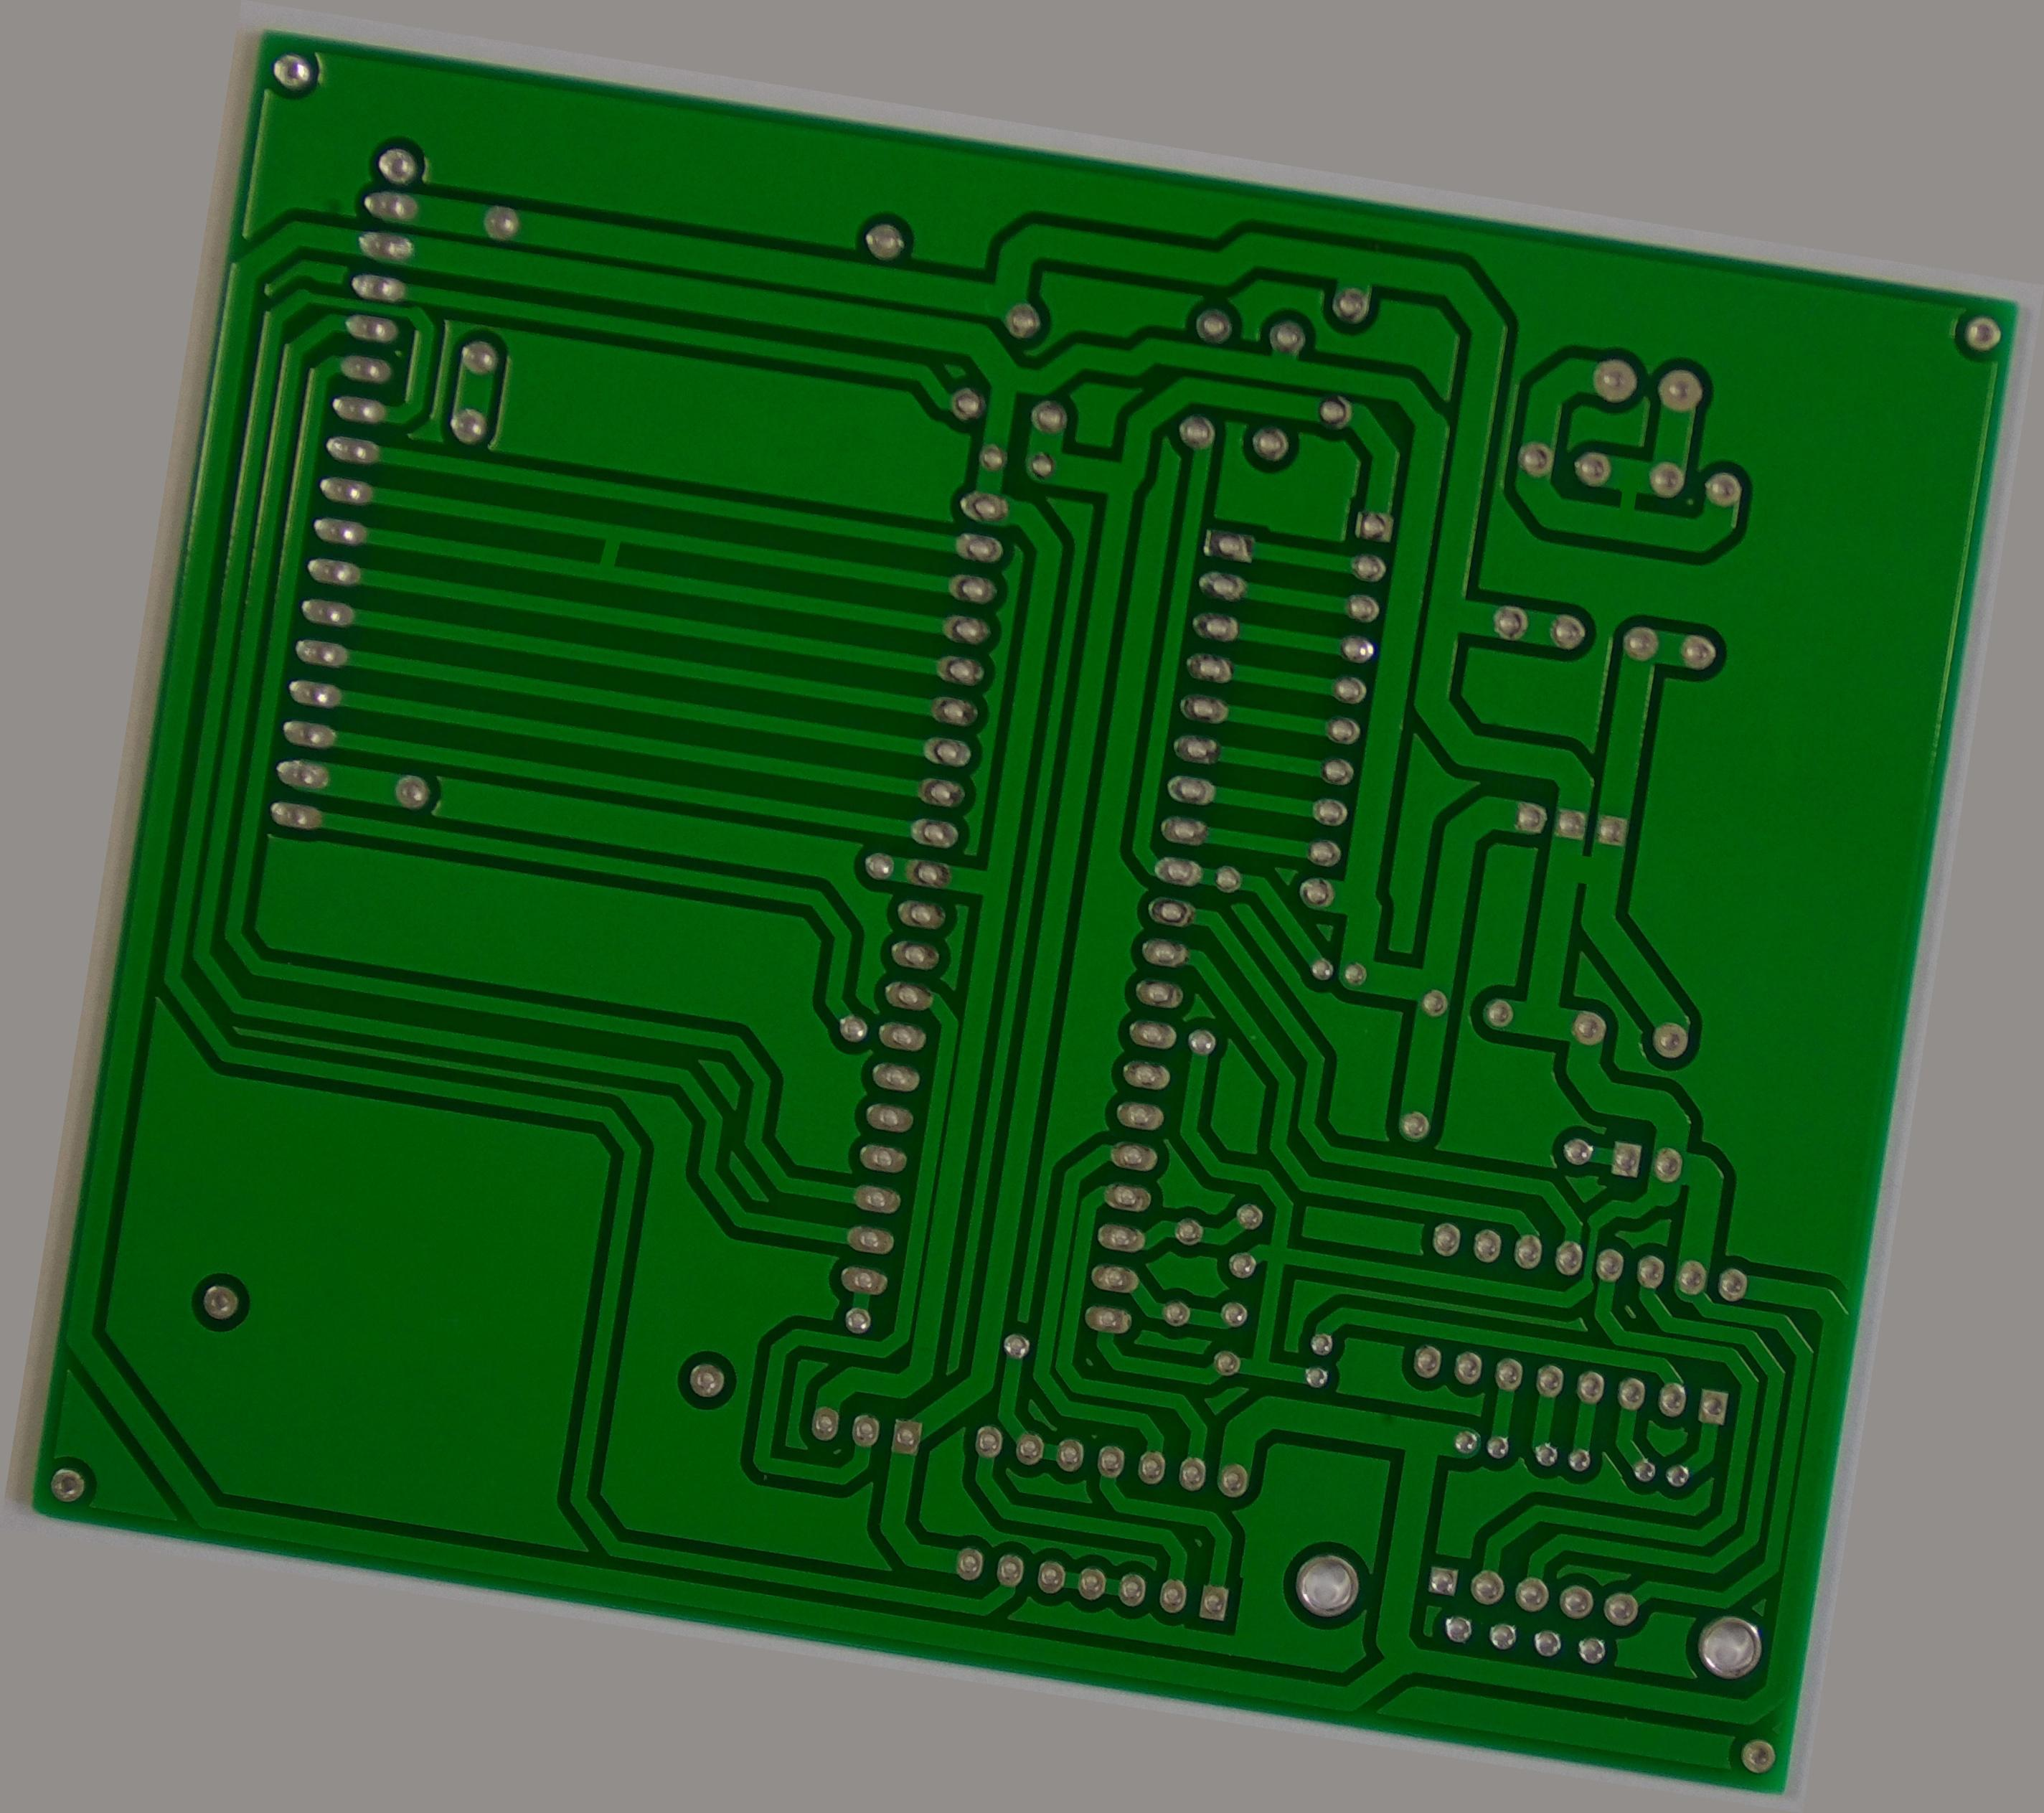short: (574, 514, 646, 590), (1552, 843, 1617, 901), (1598, 474, 1657, 530)
